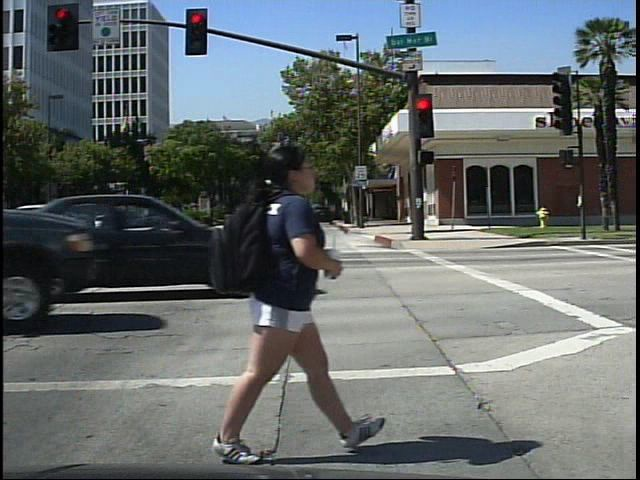person: (211, 130, 351, 467)
